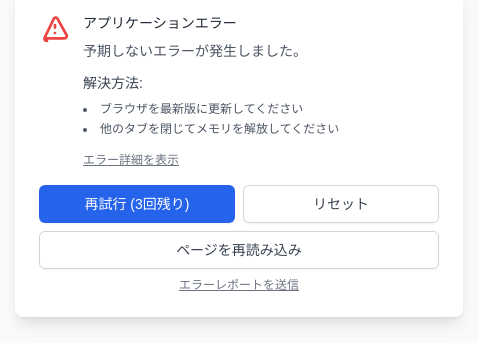
ErrorBoundary › エラーレポート送信ボタンが機能する
Click the button "エラーレポートを送信" at coordinates (239, 285), box [179,277,299,293]
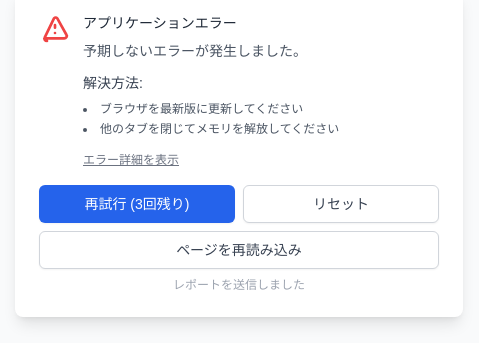
expect the button "レポートを送信しました" is shown: met, box [173,277,305,293]
